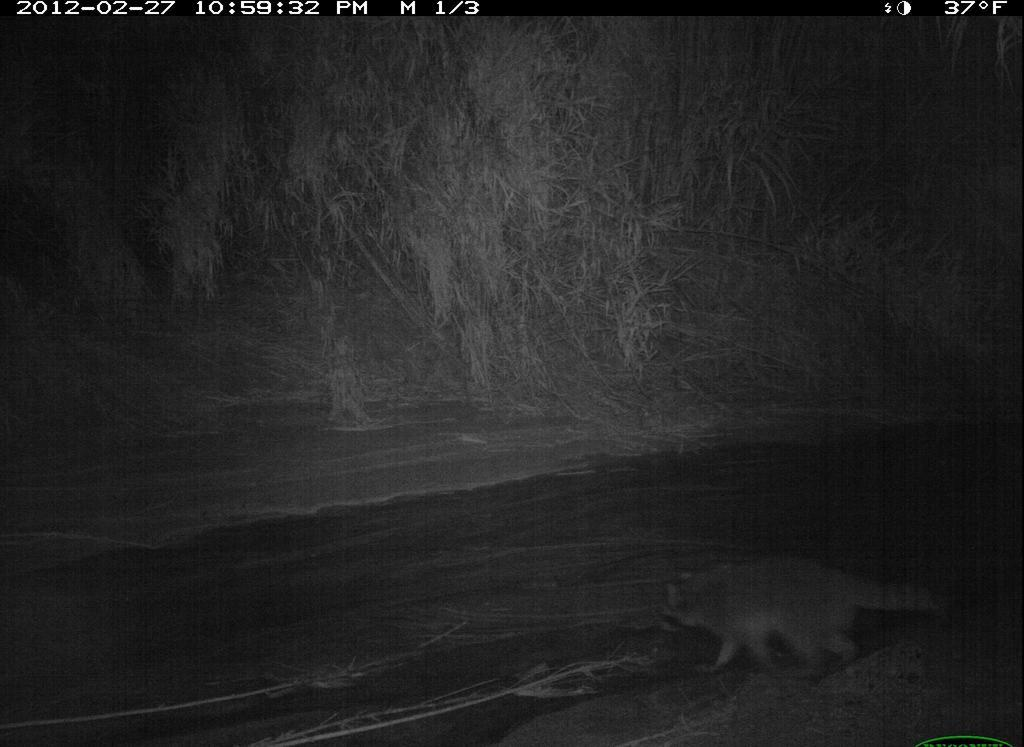raccoon: (633, 541, 955, 688)
